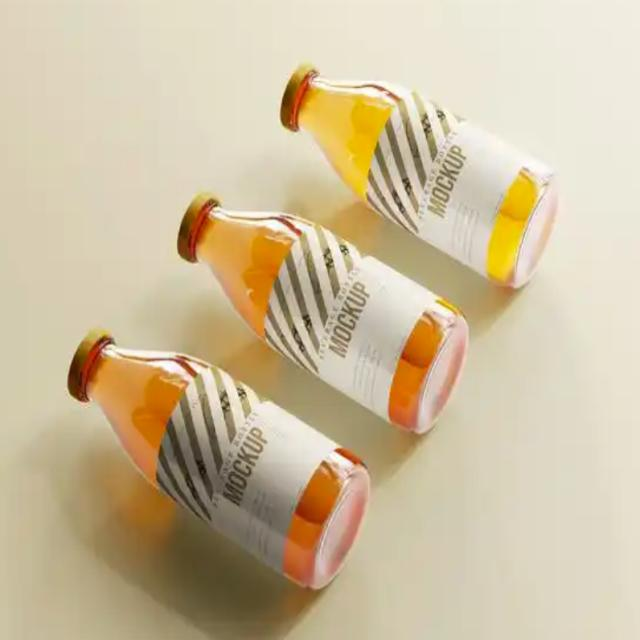bottle: (62, 325, 374, 592), (172, 190, 470, 436), (278, 59, 565, 293)
